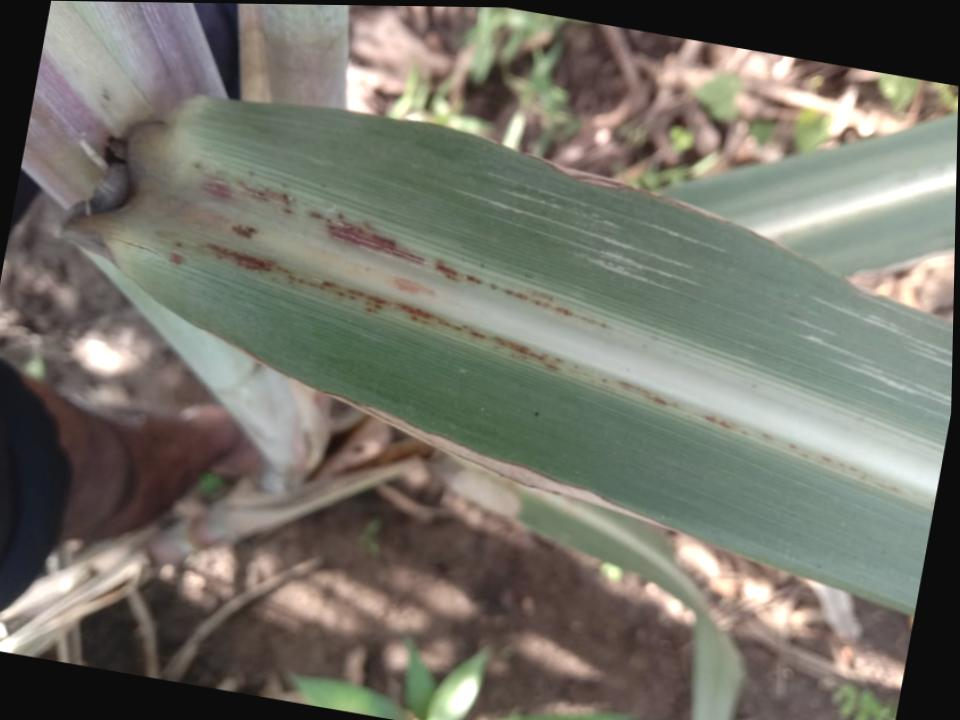RedRot: (391, 273, 437, 299)
Rust: (165, 237, 875, 483), (194, 170, 617, 332)
